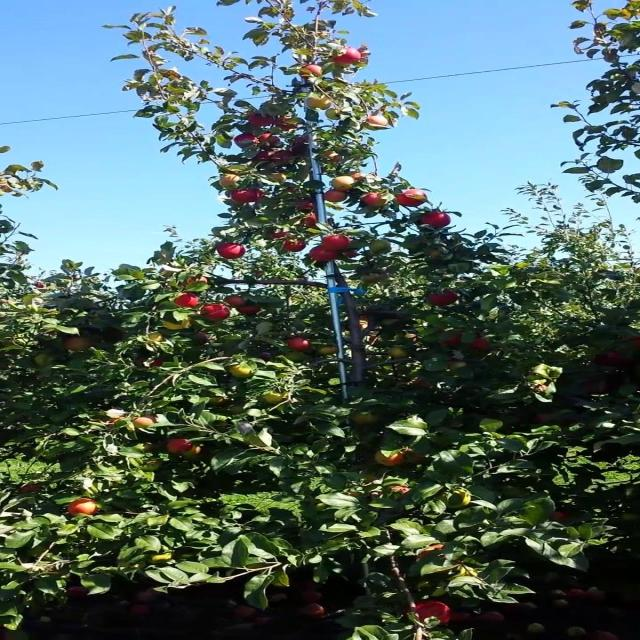apple: (416, 600, 451, 624), (440, 488, 471, 509), (596, 350, 633, 367), (420, 210, 451, 229), (67, 498, 98, 516), (333, 46, 362, 65), (231, 188, 264, 204), (396, 189, 427, 206), (320, 234, 351, 251), (200, 304, 231, 321), (216, 242, 247, 259), (427, 289, 458, 306), (309, 246, 340, 262), (62, 335, 93, 351), (164, 439, 193, 455), (304, 94, 333, 109), (247, 112, 276, 127), (582, 379, 611, 394), (173, 292, 200, 308), (233, 132, 258, 149), (376, 451, 404, 466), (227, 362, 253, 378), (167, 439, 193, 455), (351, 411, 380, 425), (362, 192, 387, 208), (260, 391, 289, 404), (331, 176, 356, 191), (418, 544, 443, 559), (276, 114, 298, 131), (287, 336, 311, 351), (269, 150, 293, 165), (291, 135, 309, 155), (258, 132, 280, 148), (282, 238, 307, 252), (364, 115, 389, 129), (331, 176, 356, 190), (298, 64, 322, 78), (387, 484, 411, 498), (218, 174, 240, 189), (369, 239, 391, 254), (467, 336, 489, 351), (131, 416, 156, 429), (33, 352, 56, 366), (404, 450, 427, 464), (162, 319, 191, 330), (324, 189, 347, 202), (224, 295, 247, 308), (387, 346, 409, 359), (18, 482, 40, 494), (442, 332, 462, 345), (182, 445, 202, 458), (136, 358, 164, 367), (316, 345, 338, 356), (293, 199, 313, 211), (533, 412, 553, 424), (302, 214, 318, 228), (238, 305, 260, 315), (360, 274, 382, 284), (269, 229, 289, 239), (251, 151, 271, 161), (551, 511, 571, 521), (107, 416, 127, 426), (324, 108, 342, 119), (187, 275, 209, 284), (322, 151, 340, 162), (364, 331, 378, 345), (196, 331, 211, 344), (147, 331, 164, 342), (269, 172, 287, 182), (349, 170, 364, 181), (427, 248, 442, 259), (402, 332, 418, 342)
